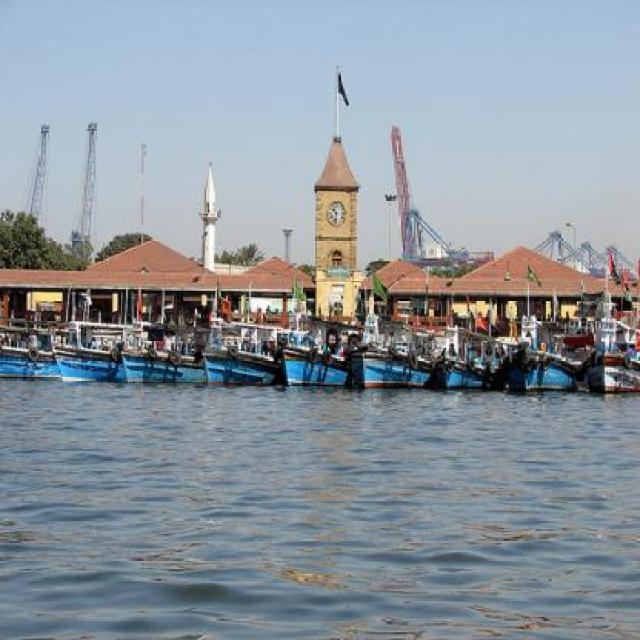ship: (344, 315, 427, 391), (501, 309, 572, 396), (195, 313, 276, 385), (115, 314, 197, 384), (428, 317, 501, 392), (264, 319, 344, 387), (1, 322, 72, 395), (580, 309, 638, 397), (46, 315, 116, 382)
